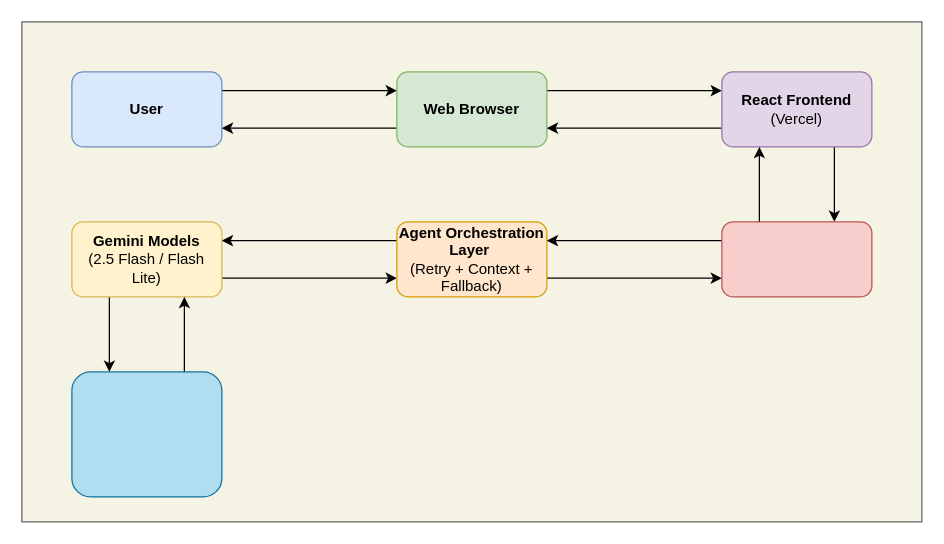
Image size: 944x544. Some labels were removed from this diagram. The centre of each missing label's shape, as x and y in pixels:
"External Services - SMTP (Gmail) - College Website / JSON - Scholarship Portals" goes at [146,434].
"FastAPI Backend (Stateless • Short-lived context (last action only))" goes at [796,259].
